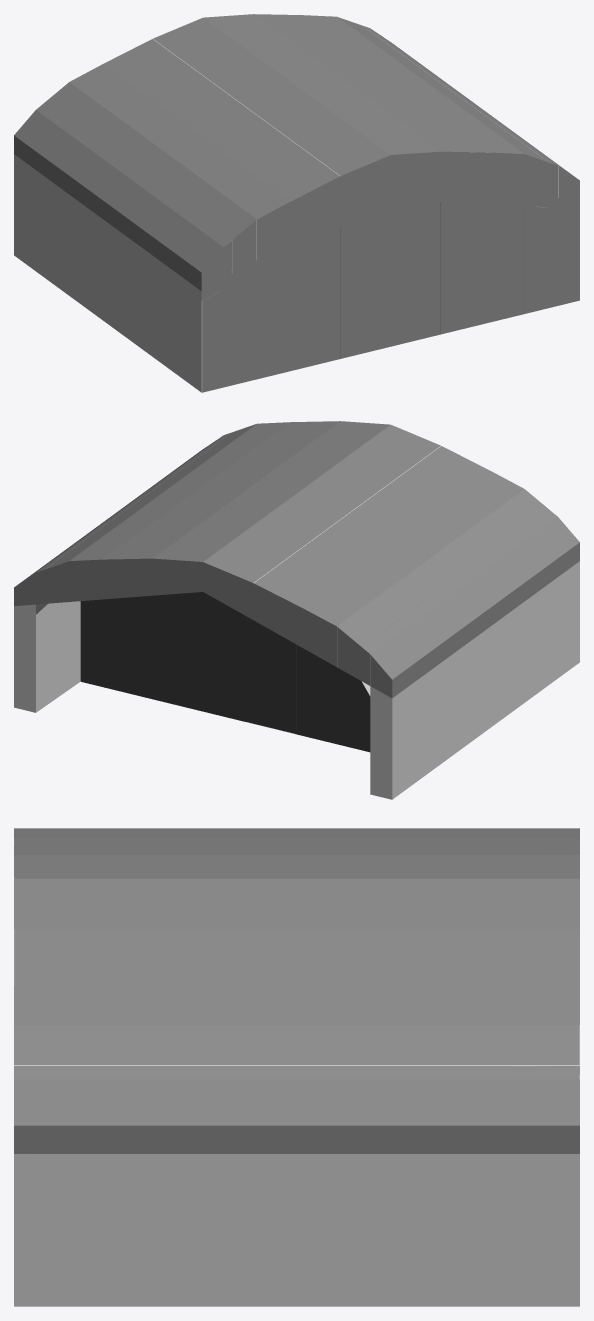
File: Barrack.fbx
3 views of the same model, one above another, from view 1: azimuth 30°, elevation 25°; view 2: azimuth 150°, elevation 25°; view 3: azimuth 270°, elevation 25° (orthographic). The views are drawn at different scales.
Parts seen in each view (by area): view 1: Cube; view 2: Cube; view 3: Cube.
Boxes of the visible parts, <box> form: Cube: <box>14,14,579,392</box>; Cube: <box>14,421,579,799</box>; Cube: <box>14,828,579,1306</box>.
Bounding box in the file's own units: 1494 × 724 × 1285.
1 material, 1 textured.
